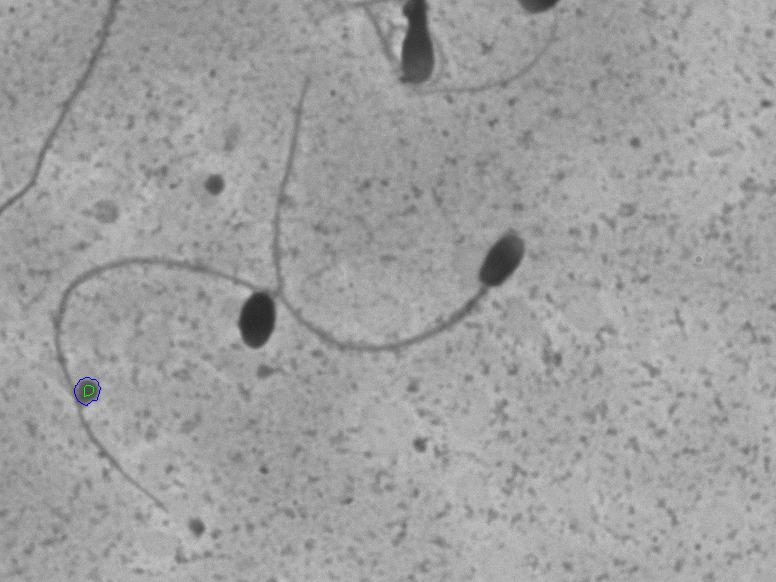Abnormal: (32, 227, 283, 524)
Normal: (250, 16, 548, 376)
